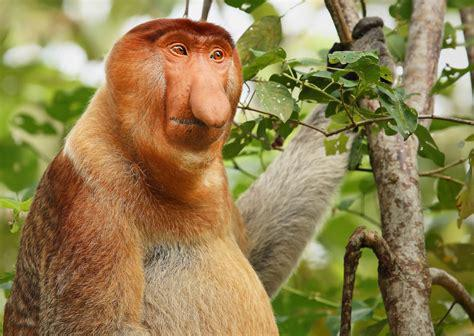monkey: (5, 22, 277, 336)
